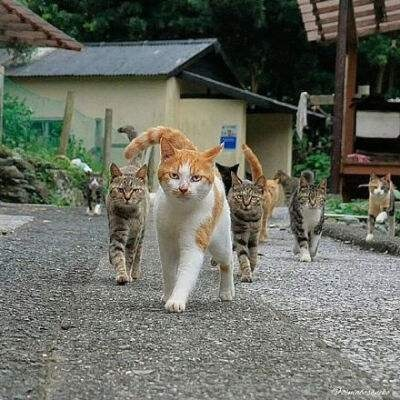cat: (125, 125, 237, 312), (104, 125, 152, 285), (226, 171, 265, 284), (289, 177, 327, 261), (242, 144, 270, 242), (365, 171, 396, 242), (275, 170, 313, 208), (85, 168, 105, 215), (216, 160, 240, 195), (264, 178, 280, 226)
